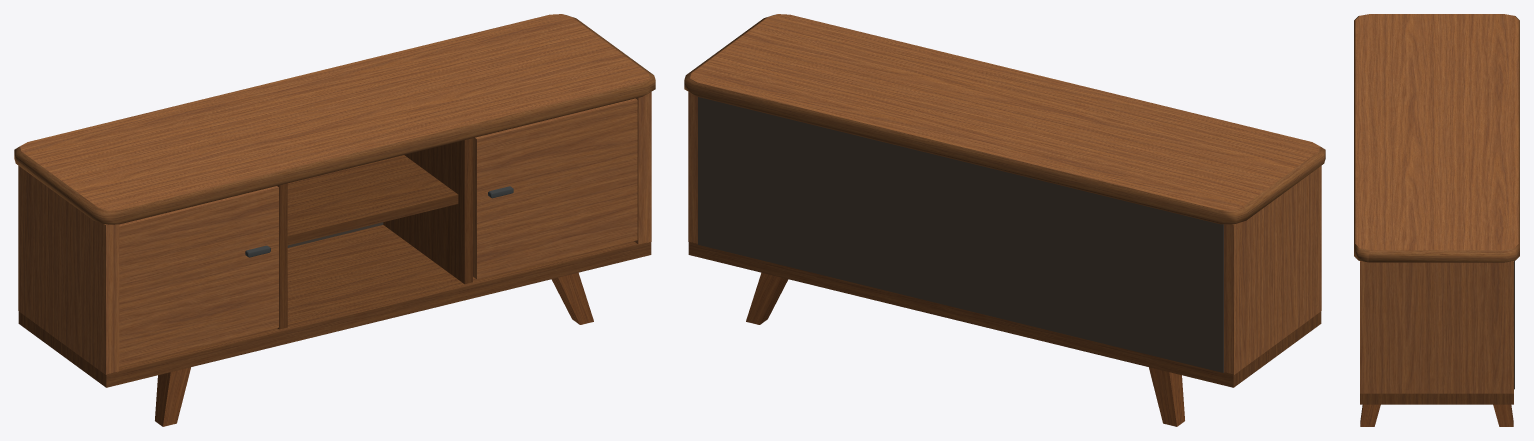
File: walnut_media_console.glb
3 renders of one model, left to right at view 1: azimuth 30°, elevation 25°; view 2: azimuth 150°, elevation 25°; view 3: azimuth 270°, elevation 25°, orthographic. The views are drawn at different scales.
Parts seen in each view (by area): view 1: walnut_media_console; view 2: walnut_media_console; view 3: walnut_media_console.
Part boxes in pixels (x1,y1,x2,y2): walnut_media_console: (14, 14, 655, 426); walnut_media_console: (684, 14, 1325, 426); walnut_media_console: (1354, 14, 1519, 426).
Bounding box in the file's own units: 1.44 × 0.565 × 0.42.
2 materials, 1 textured.
